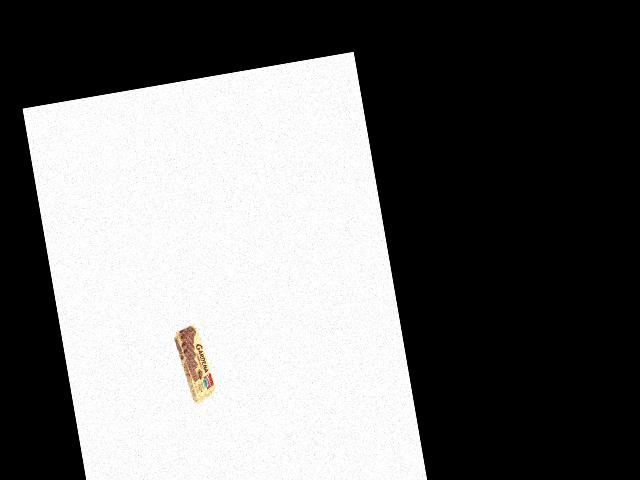chocolate: (174, 318, 219, 408)
